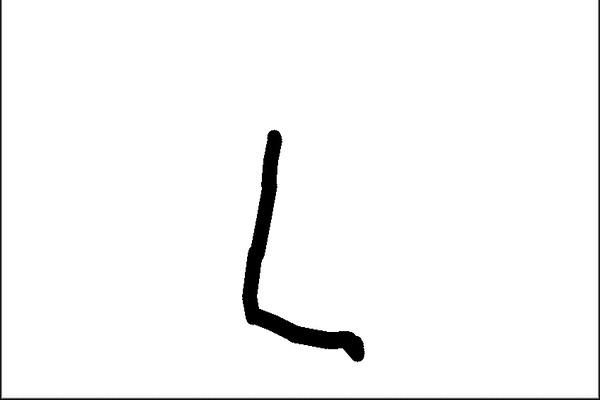L: (236, 125, 373, 370)
